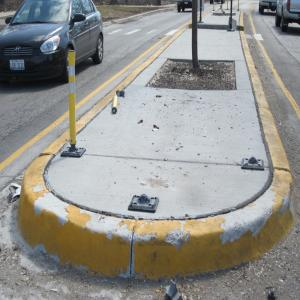Vehicle-registration-plate: (9, 59, 26, 72)
